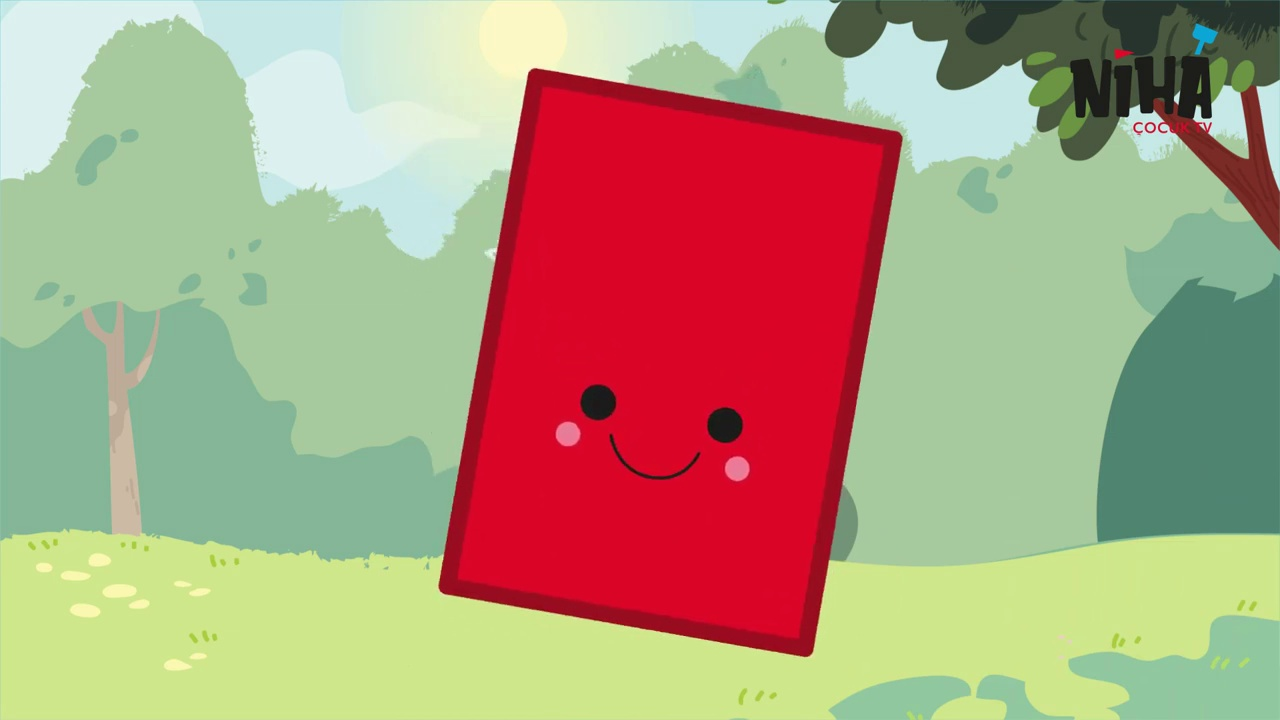dikdortgen: (426, 58, 895, 663)
